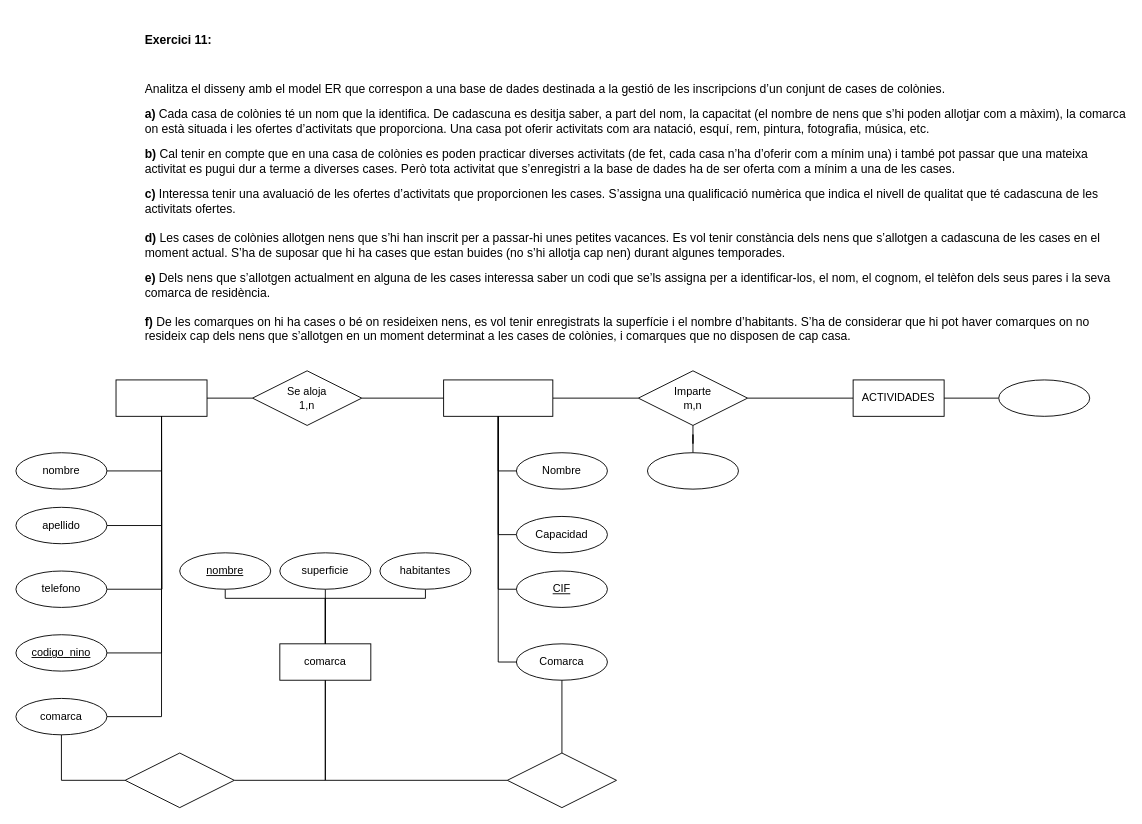
This 1142x824 diagram has some shape labels left out. The box of each missing label's shape, as (x1, y1, x2, y2) in pixels:
CASA DE COLONIAS: (443, 379, 553, 416)
NIÑO: (115, 379, 207, 416)
Nombre actividad: (998, 379, 1090, 416)
nota: (647, 452, 738, 489)
Pertenece a 0,1: (506, 752, 617, 808)
pertenece a 0,n: (124, 752, 234, 808)
